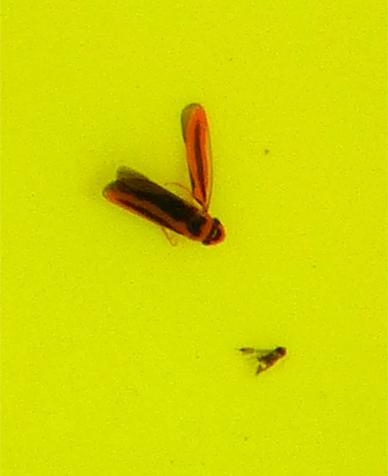Hemiptera: (100, 100, 227, 247), (237, 343, 288, 376)
